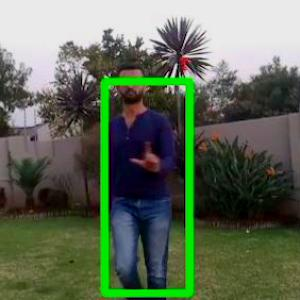land_hand: (129, 132, 168, 178)
